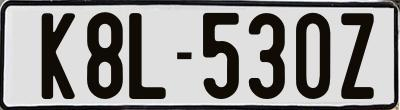0: (293, 13, 331, 101)
3: (246, 11, 287, 101)
5: (203, 13, 245, 102)
8: (85, 12, 121, 102)
K: (40, 11, 75, 98)
L: (129, 12, 167, 99)
Z: (341, 11, 377, 100)
